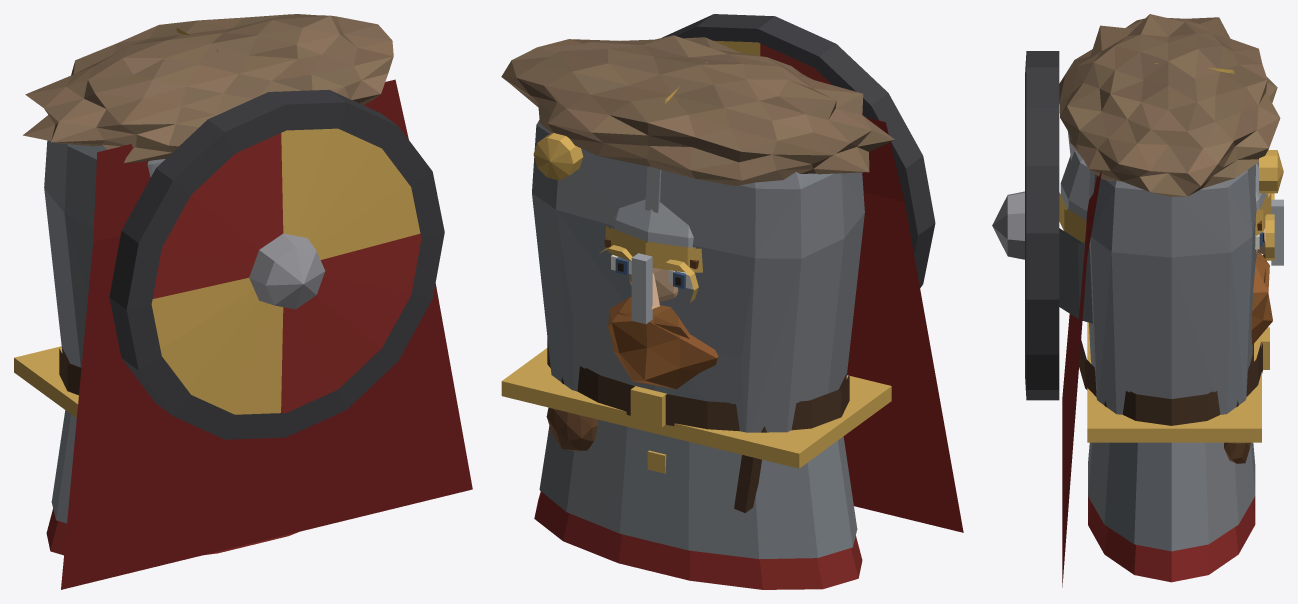
The model's file is Settler_Man_5.glb.
3 views of the same model, side by side, from view 1: azimuth 30°, elevation 25°; view 2: azimuth 150°, elevation 25°; view 3: azimuth 270°, elevation 25° (orthographic). The views are drawn at different scales.
Parts seen in each view (by area): view 1: Body; view 2: Body, Head; view 3: Body, Head.
Boxes of the visible parts, x1=… form: Body: x1=14, y1=14, x2=472, y2=589; Body: x1=501, y1=14, x2=963, y2=589; Head: x1=600, y1=62, x2=718, y2=473; Body: x1=992, y1=14, x2=1283, y2=587; Head: x1=1059, y1=63, x2=1283, y2=344.
Size of the model in its own units: 2.9 by 3.16 by 1.87.
Materials: 1 (1 with a texture image).
